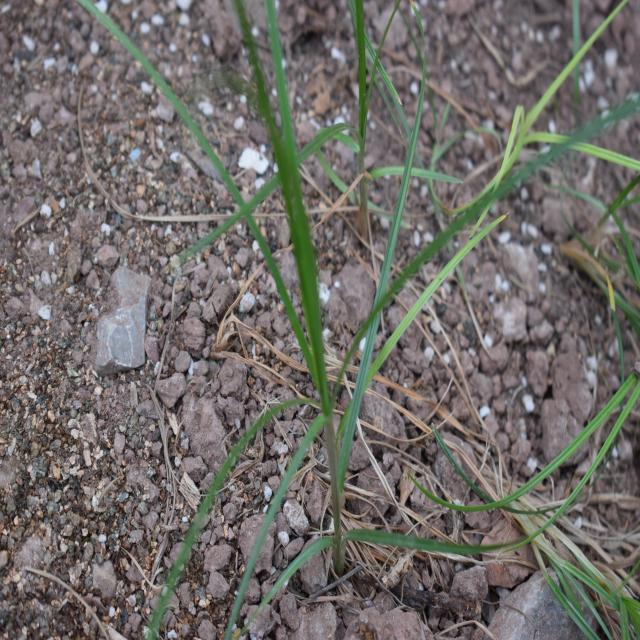sedge: (150, 0, 480, 607)
